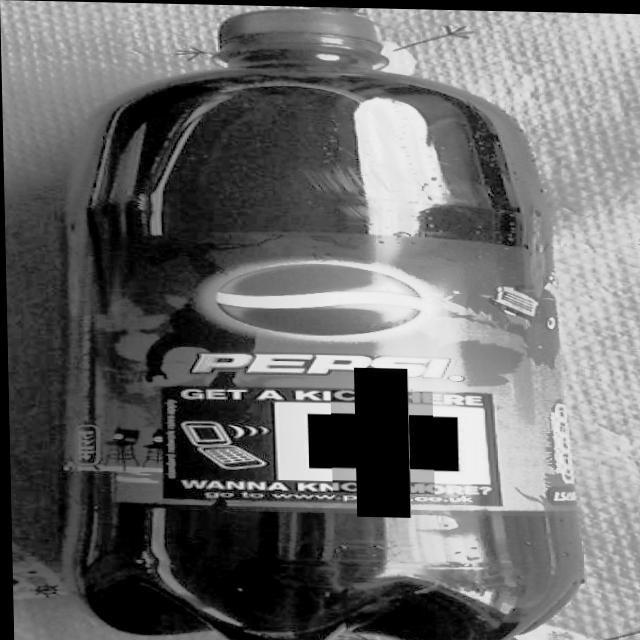qr_code: (329, 389, 433, 493)
